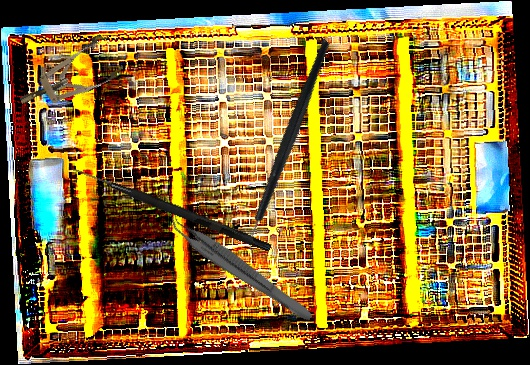Chopper: (183, 37, 397, 262)
Hook Surgical: (69, 165, 273, 252)
Speculum: (10, 31, 127, 121)
Tissue Forceps: (163, 211, 320, 324)
